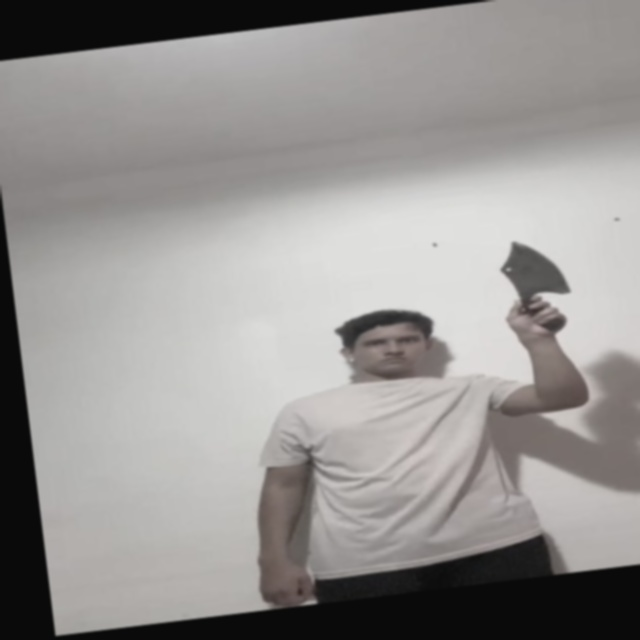Sharp-Object: (493, 234, 572, 303)
